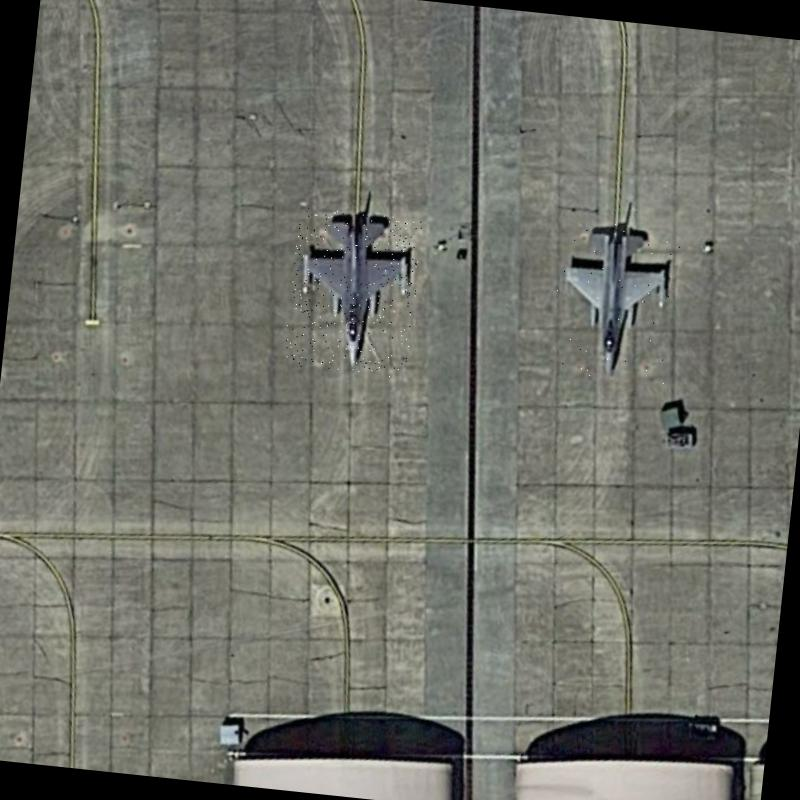A5: (282, 204, 423, 378), (546, 215, 682, 388)
